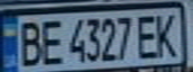2: (100, 14, 118, 62)
3: (81, 15, 103, 63)
4: (63, 15, 87, 63)
7: (115, 12, 136, 61)
B: (12, 17, 45, 68)
E: (36, 16, 66, 66), (136, 11, 160, 60)
K: (151, 10, 181, 58)
